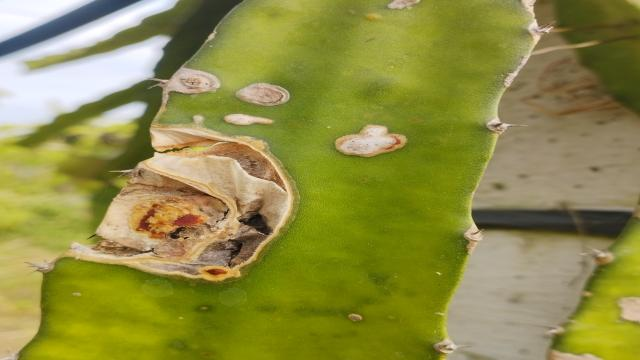stemcanker: (158, 300, 219, 360), (325, 293, 380, 342)
